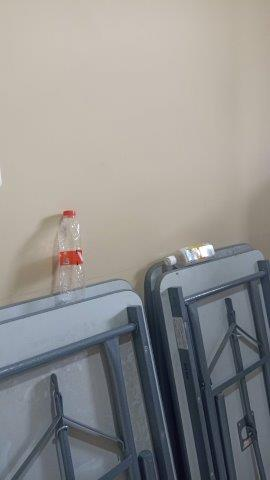botolplastik: (56, 211, 88, 311), (163, 243, 216, 270)
